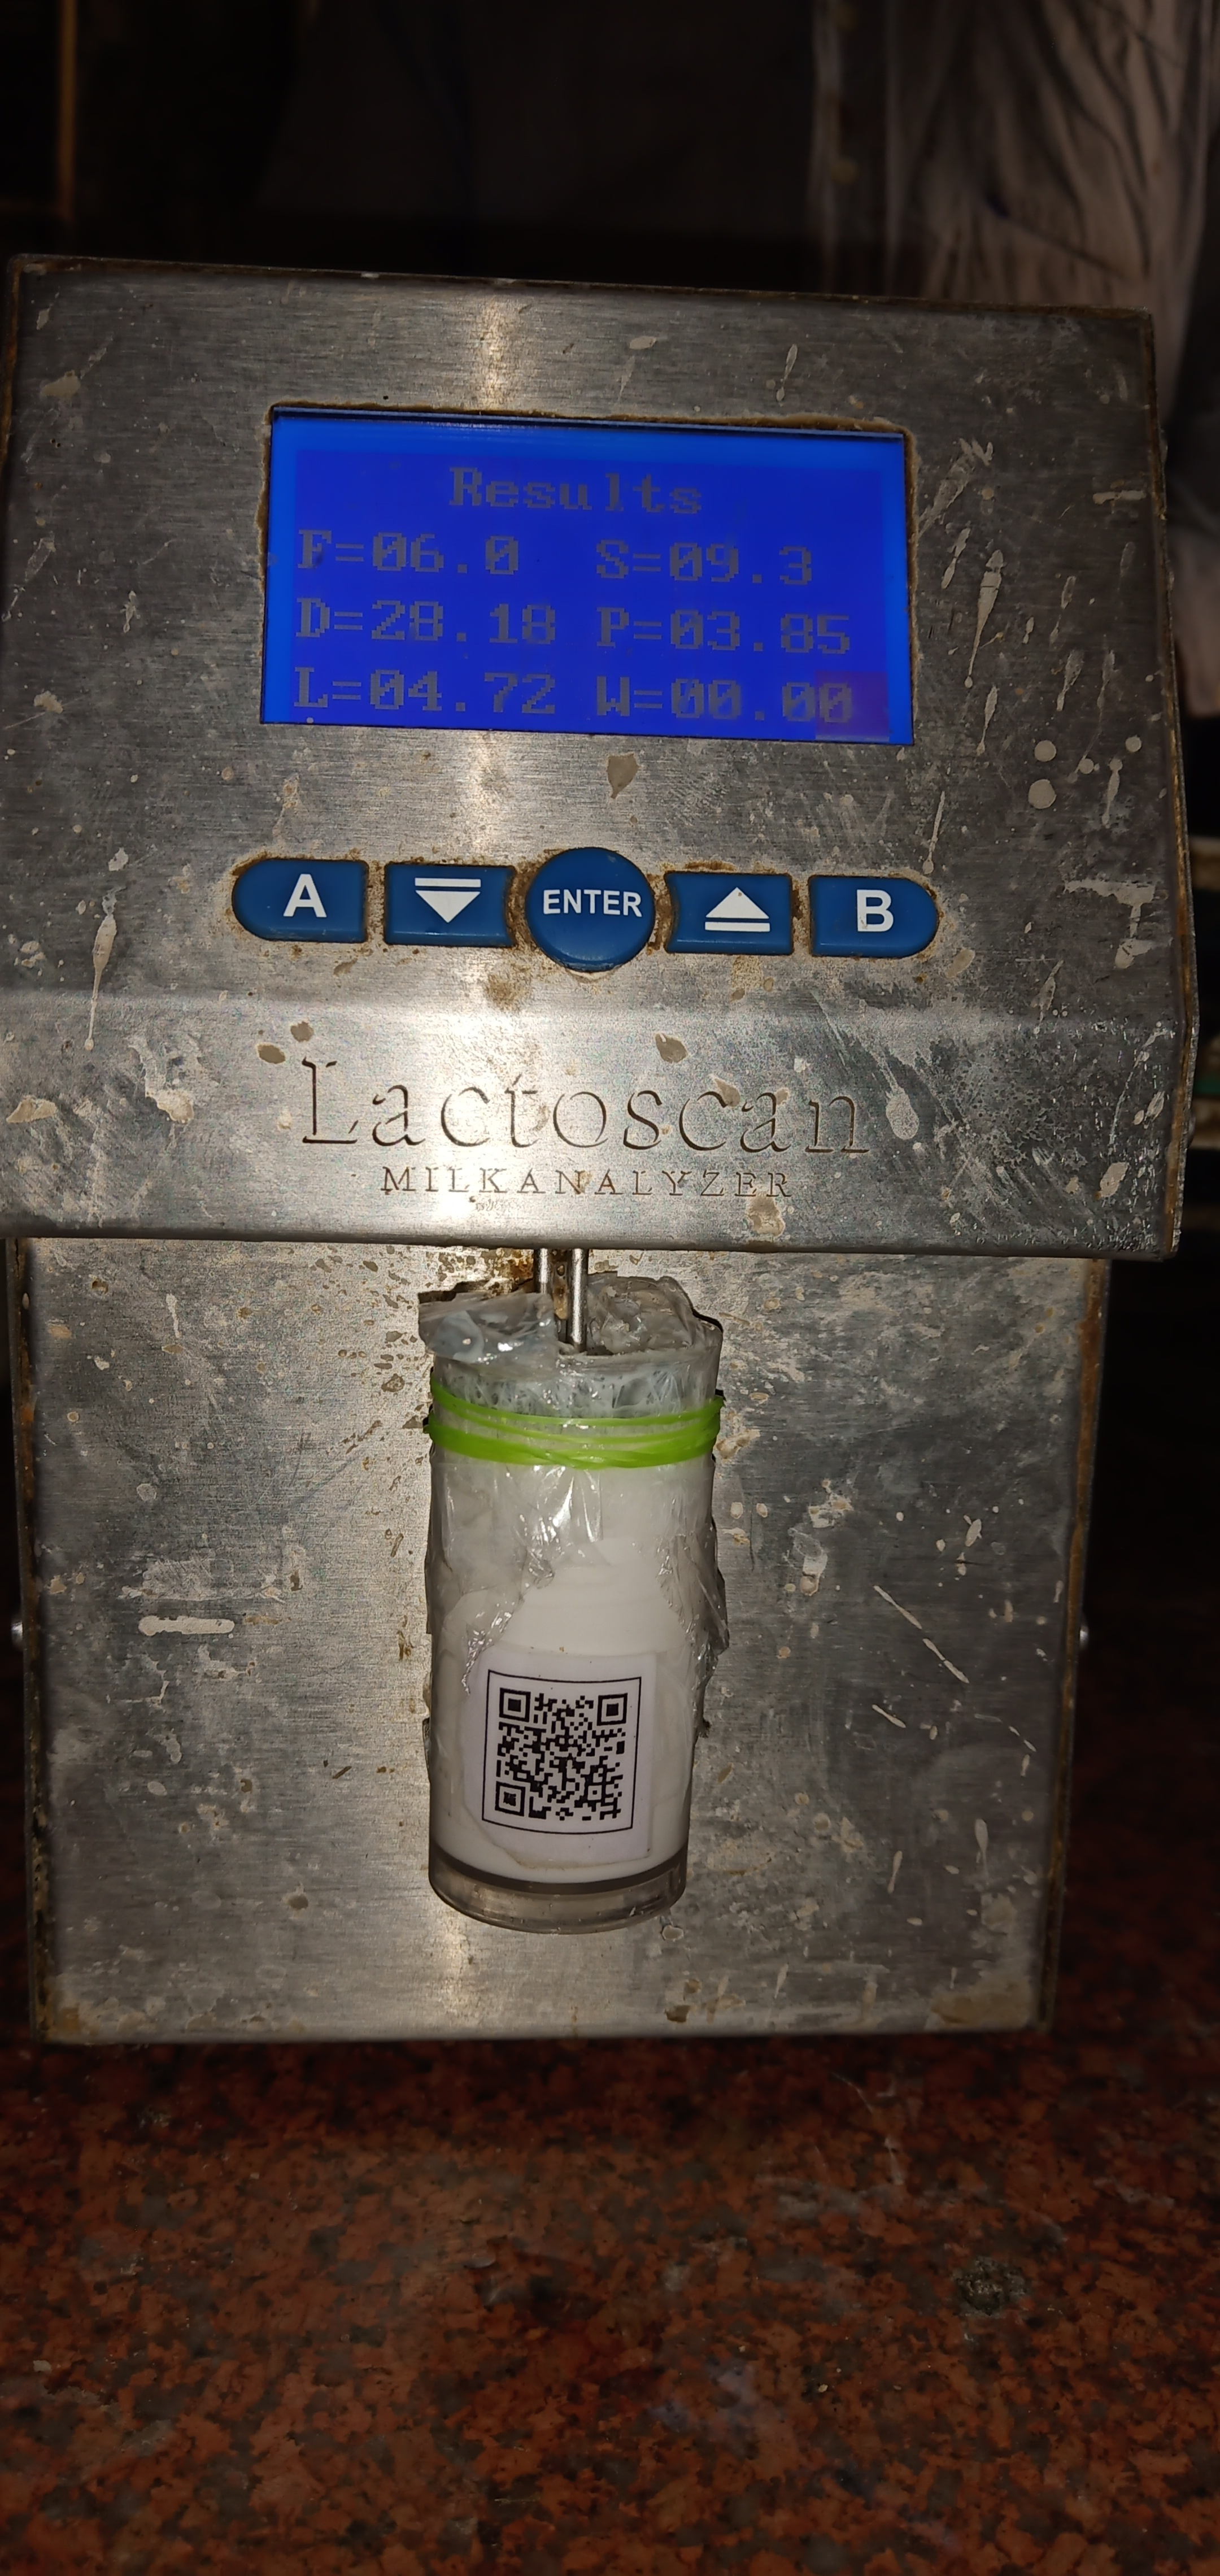lcd: (248, 371, 967, 812)
qr: (466, 1651, 665, 1861)
